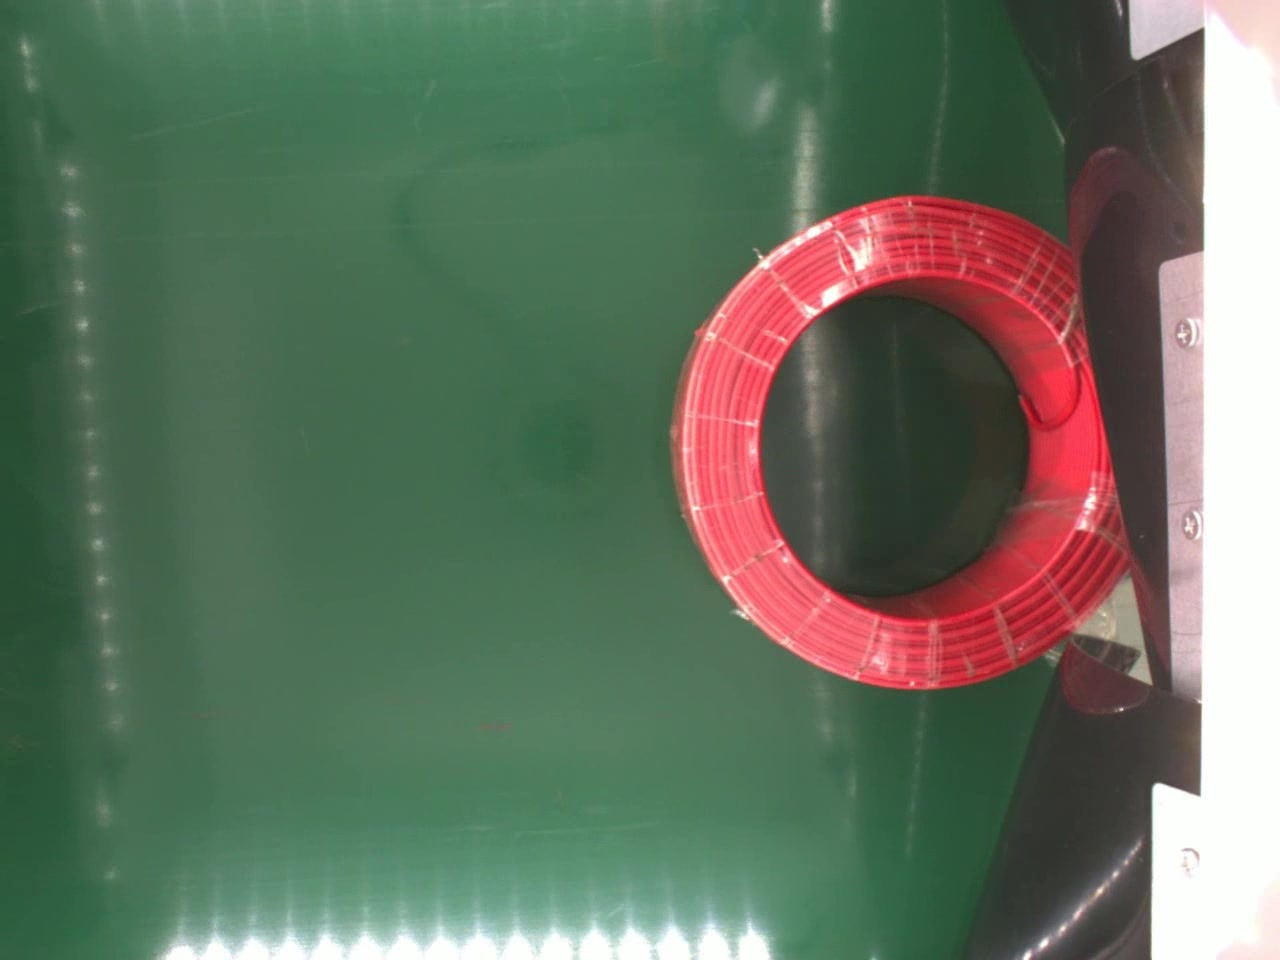red: (666, 192, 1132, 697)
